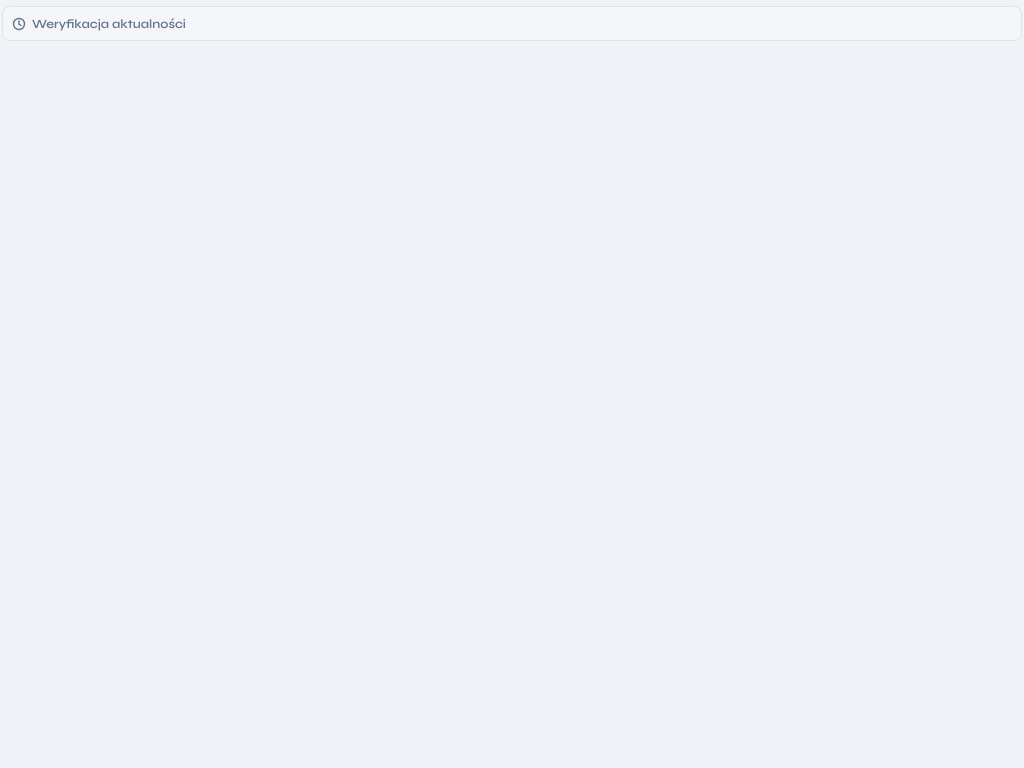
Scenario: ActualityReviewPanel › otwarcie panelu automatycznie pobiera listę bez wybierania filtra
Click the button "Weryfikacja aktualności" at (109, 24), box x1=2 y1=6 x2=1022 y2=41
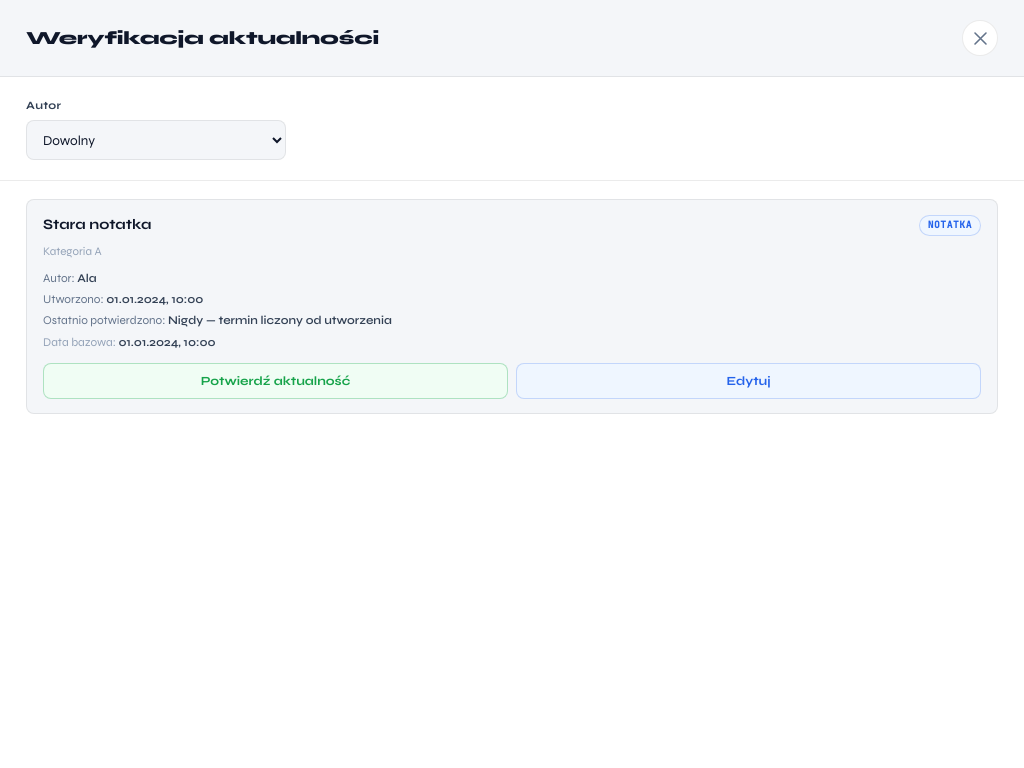
expect the dialog "Weryfikacja aktualności" is shown: met
expect the text "Stara notatka" is shown: met, box x1=43 y1=216 x2=151 y2=233
